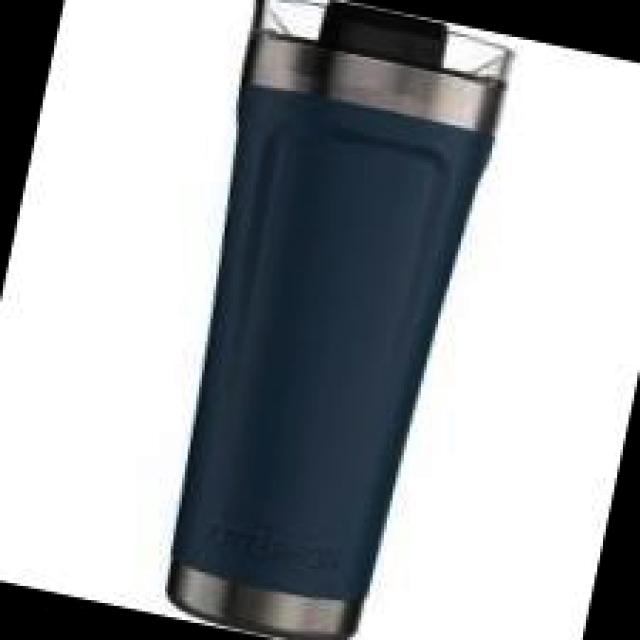bottle: (116, 0, 518, 640)
